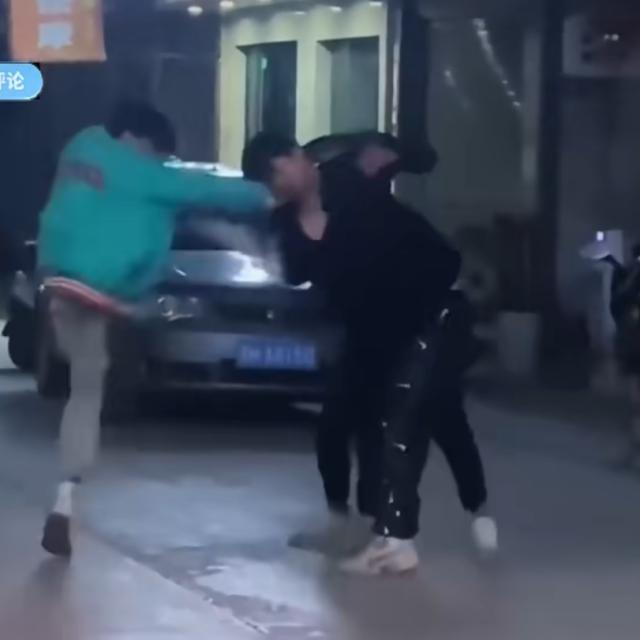fight: (65, 97, 448, 306)
